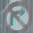Don't turn right: (3, 2, 31, 32)
